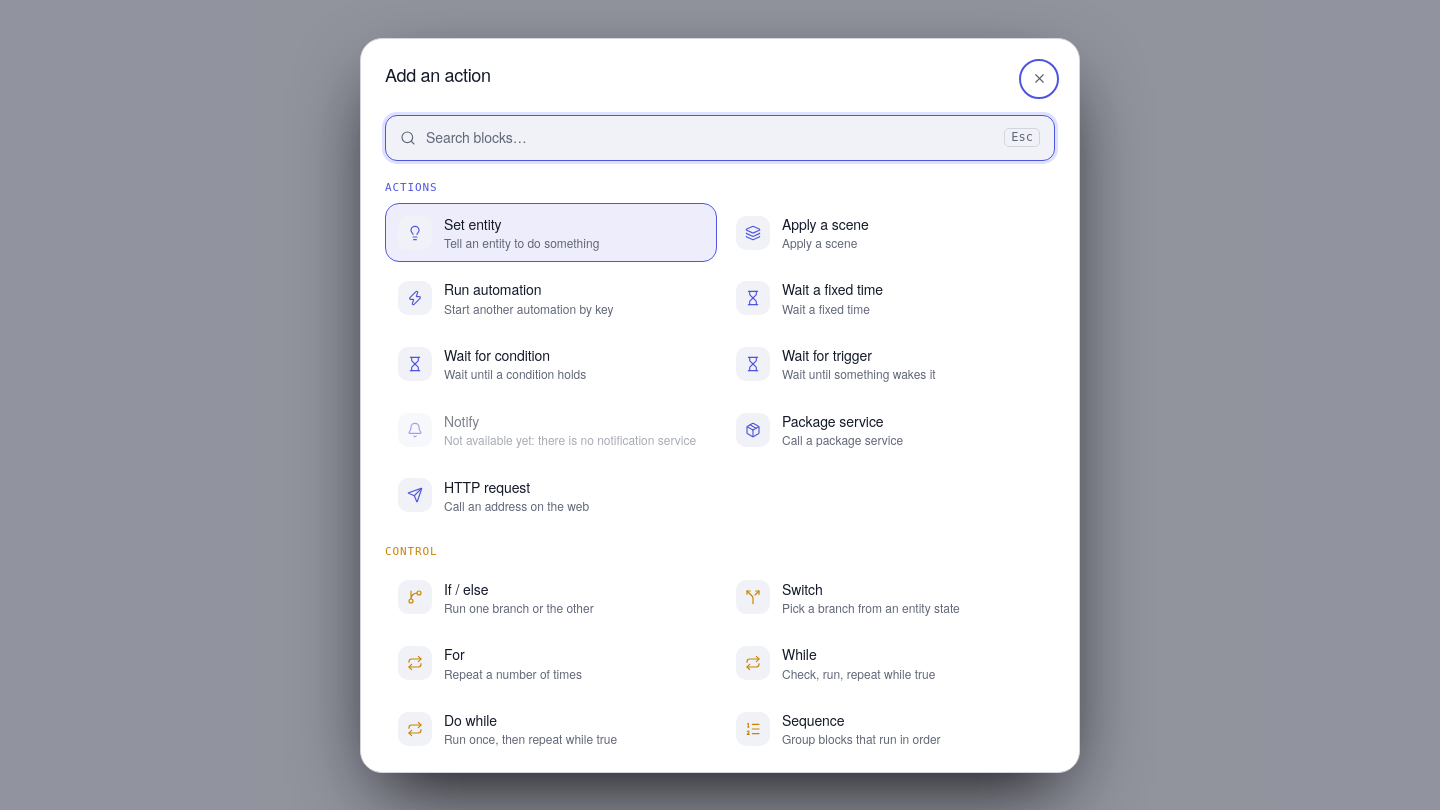
Scenario: BlockPickerModal › narrows to what is searched for
In the search field with placeholder "Search blocks…": (710, 137) [426, 127, 994, 148], type "wait"
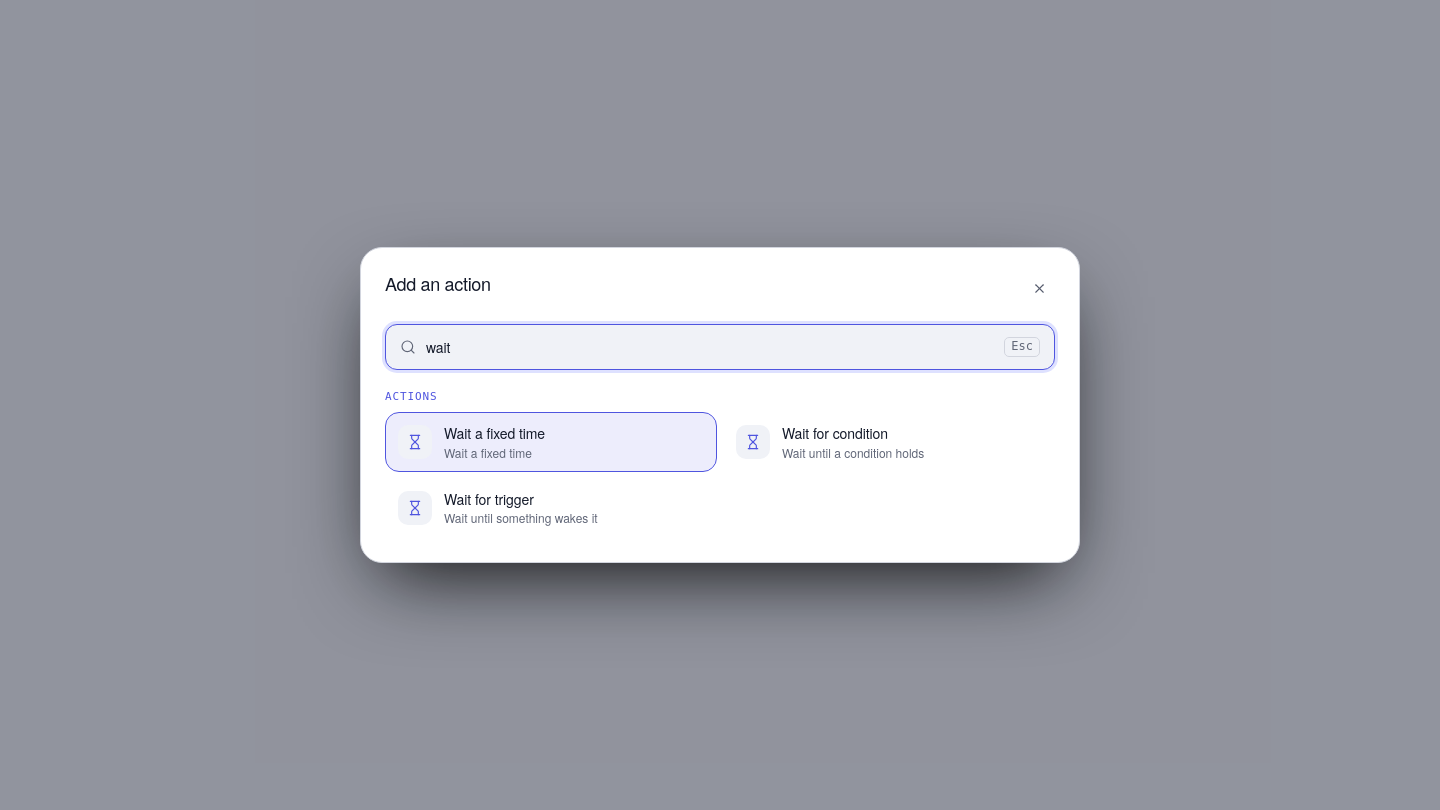
Expected: the number of options is 3, [385, 412, 717, 472]; [723, 412, 1055, 472]; [385, 478, 717, 538]
Now the option "Set entity" is gone
